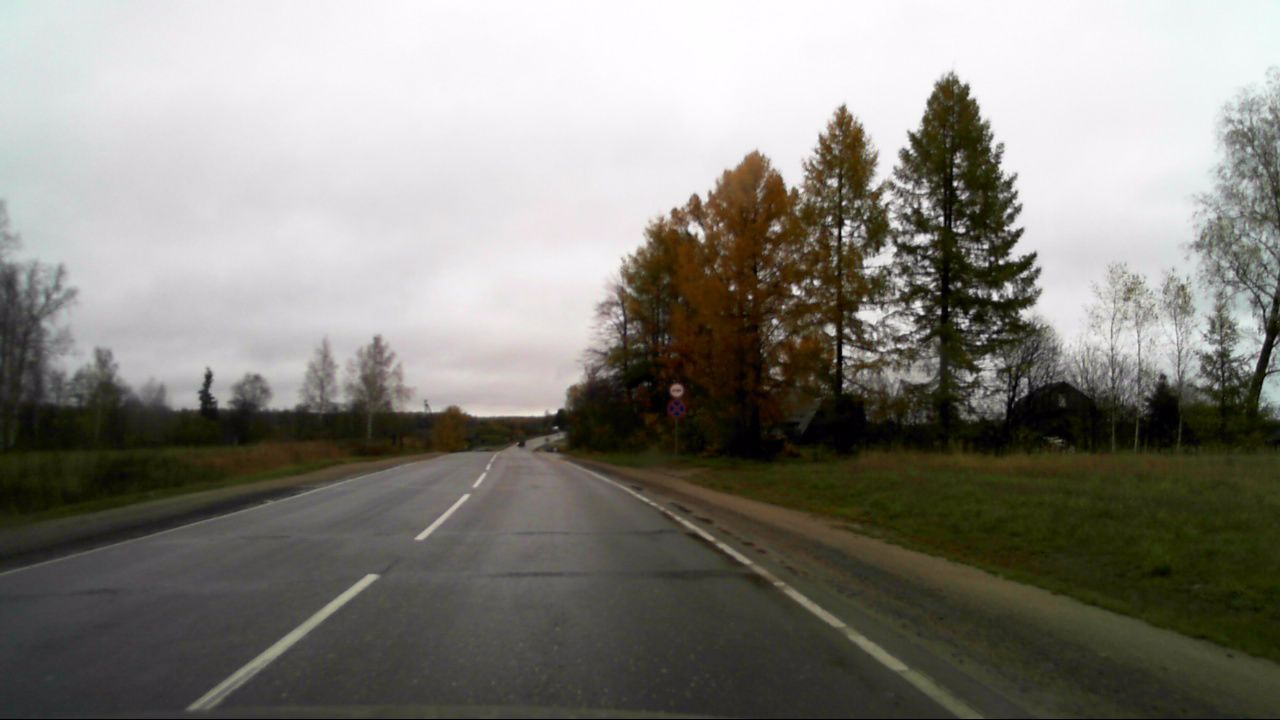No Parking: (665, 397, 689, 420)
